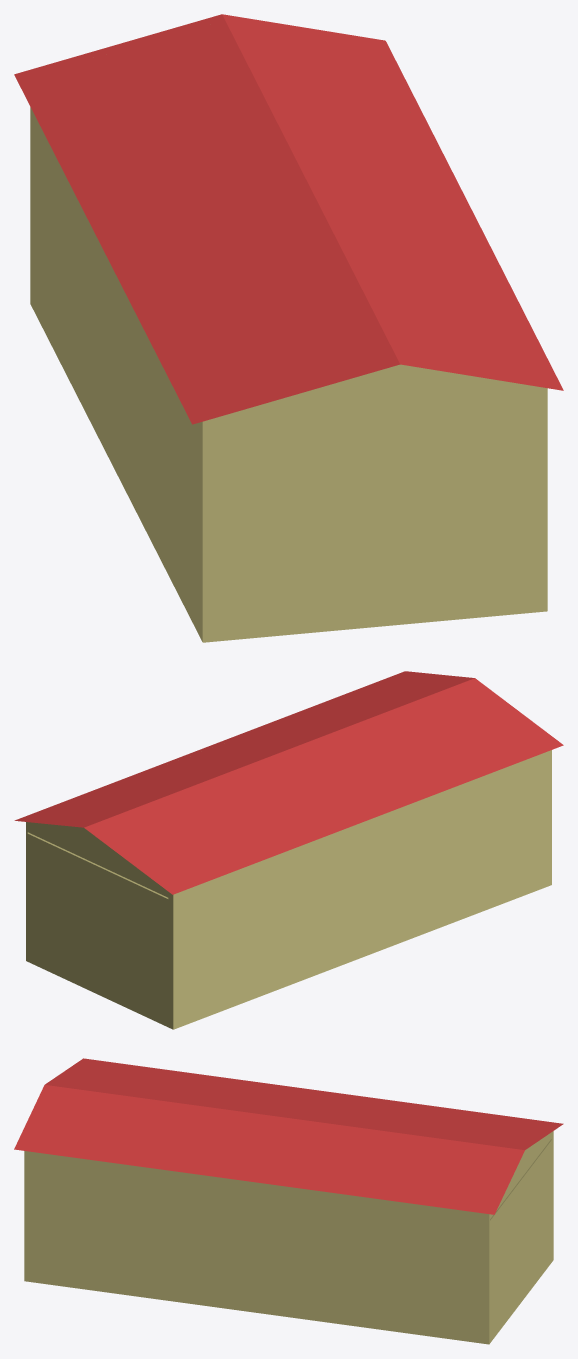
3 views of the same model, one above another, from view 1: azimuth 30°, elevation 25°; view 2: azimuth 150°, elevation 25°; view 3: azimuth 270°, elevation 25° (orthographic). The views are drawn at different scales.
Bounding box in the file's own units: 22.65 × 33.63 × 10.7.
